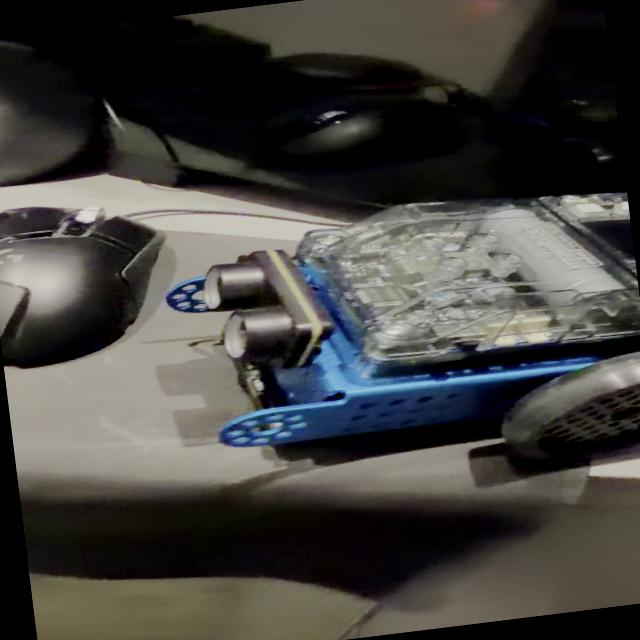mbot-detection: (154, 167, 640, 525)
